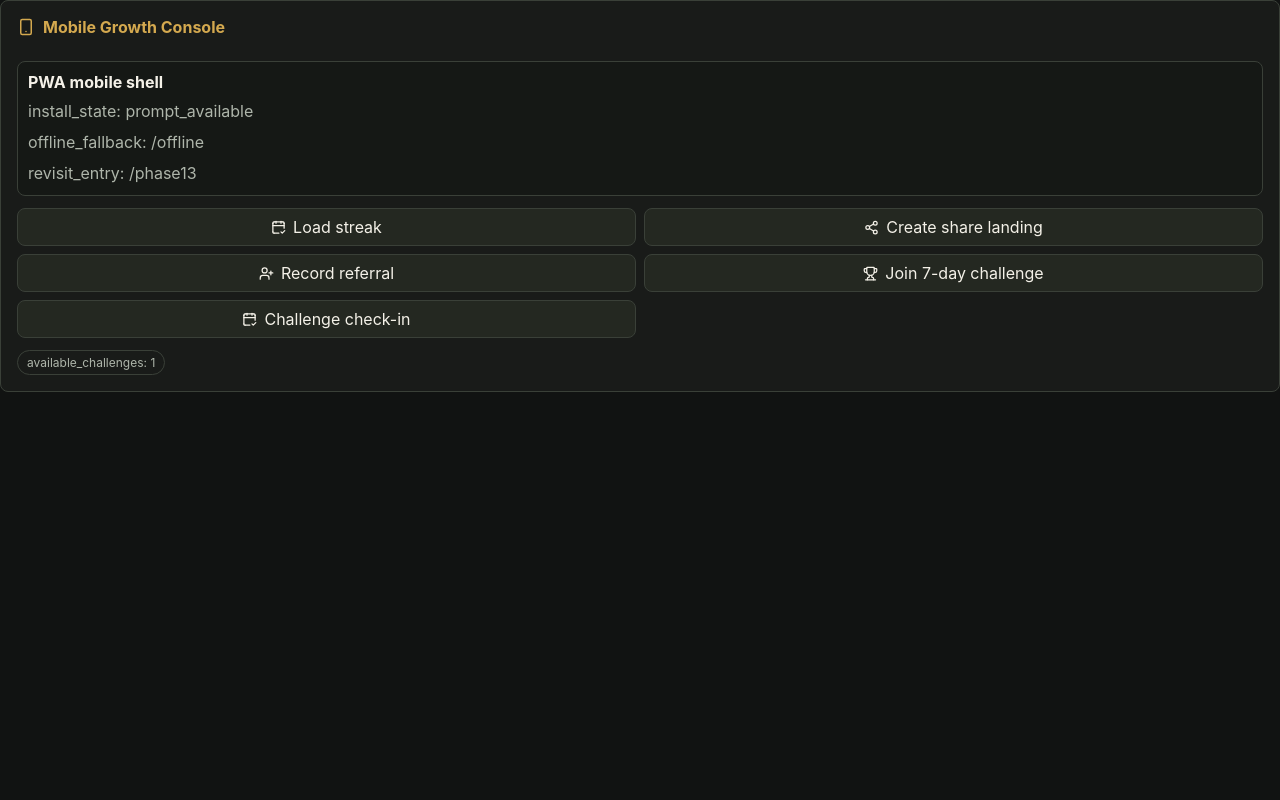
Scenario: phase 13 mobile growth panel › loads streak, creates share, records referral, and checks in challenge without sensitive text
Click the button "Load streak": (326, 227) [17, 208, 636, 246]
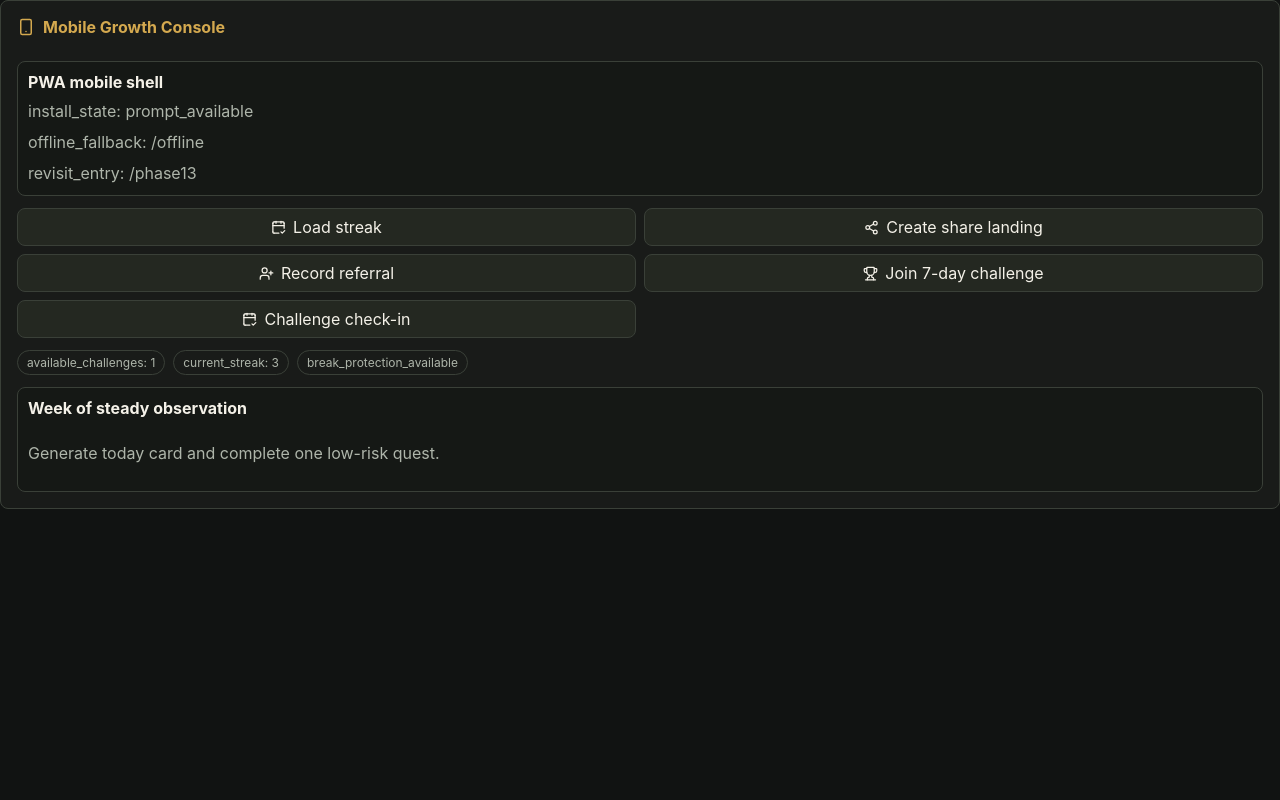
Check: the text "current_streak: 3" is shown, box [173, 350, 289, 375]
Click the button "Create share landing": (954, 227) [644, 208, 1263, 246]
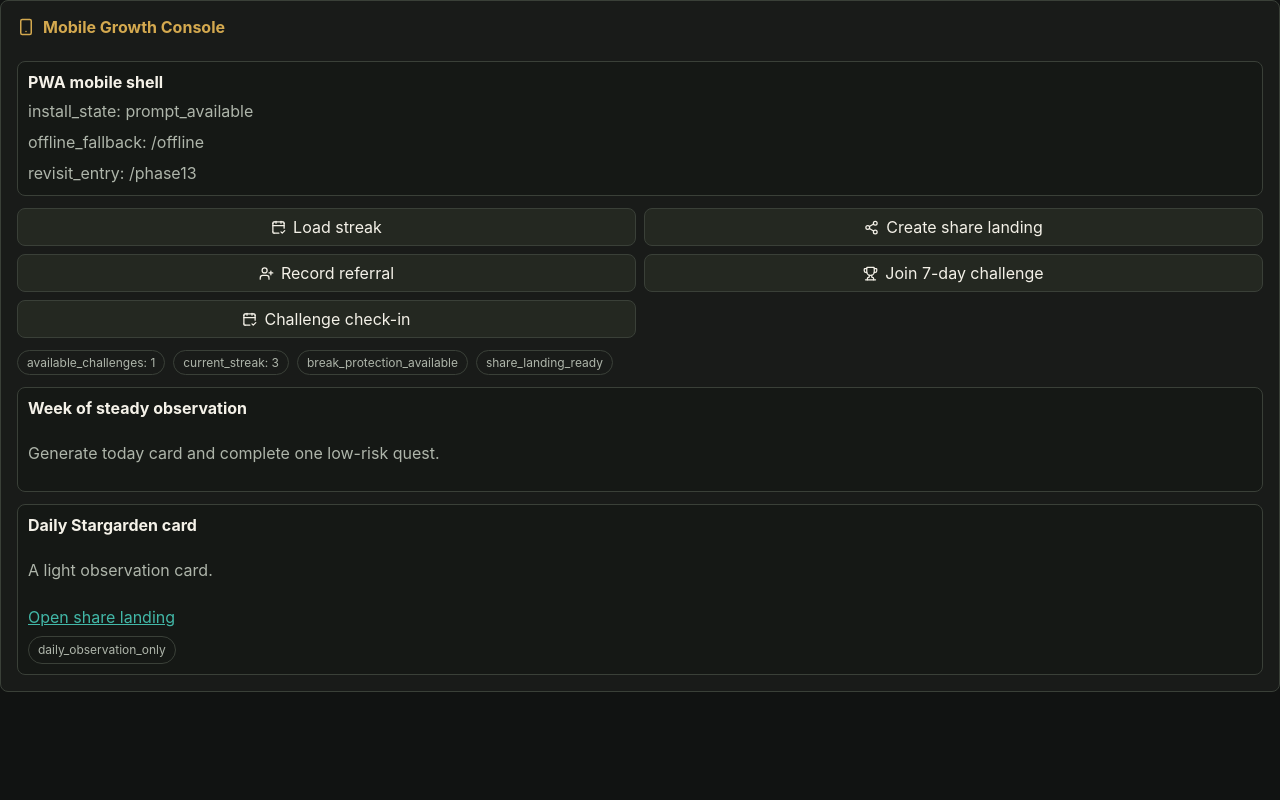
Check: the text "share_landing_ready" is shown, box [476, 350, 613, 375]
Click the button "Record referral": (326, 273) [17, 254, 636, 292]
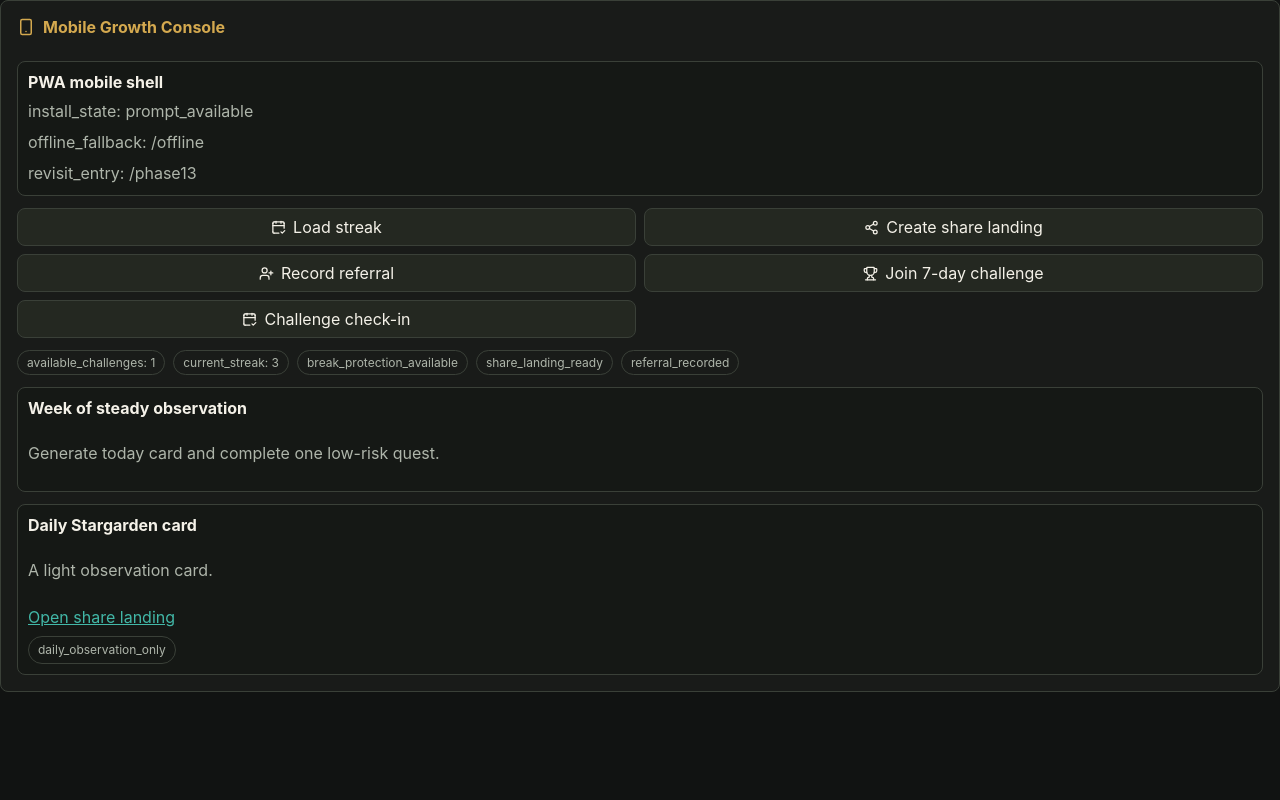
Check: the text "referral_recorded" is shown, box [621, 350, 739, 375]
Click the button "Join 7-day challenge": (954, 273) [644, 254, 1263, 292]
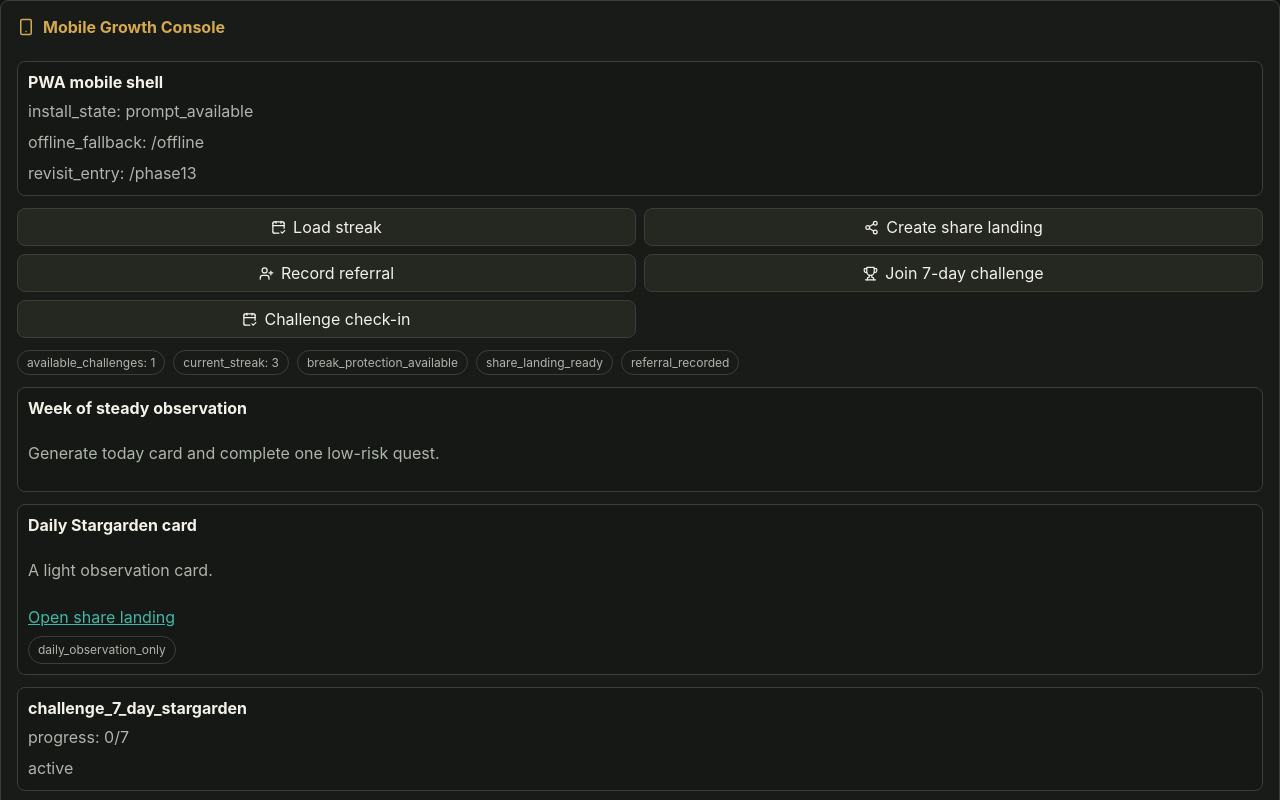
Check: the text "challenge_7_day_stargarden" is shown, box [28, 698, 247, 718]
Click the button "Challenge check-in": (326, 319) [17, 300, 636, 338]
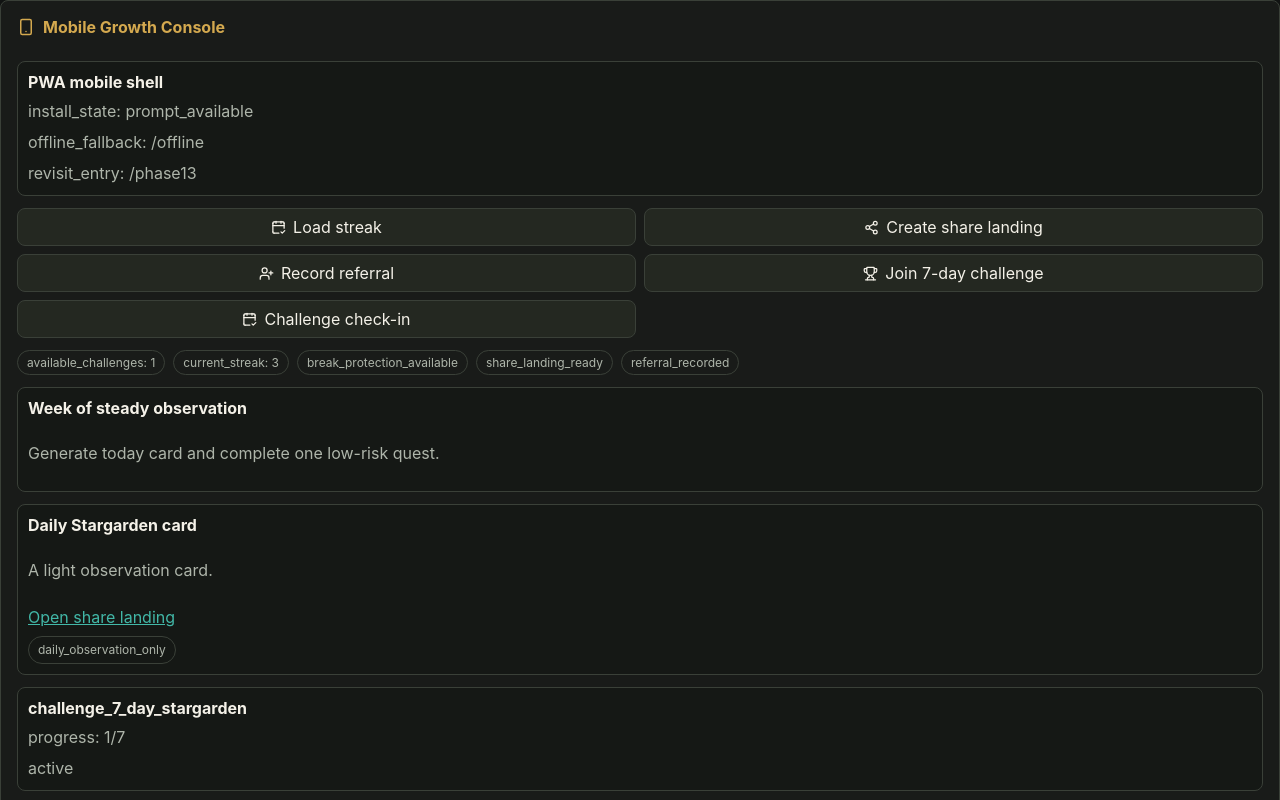
Check: the text "progress: 1/7" is shown, box [28, 727, 125, 747]
